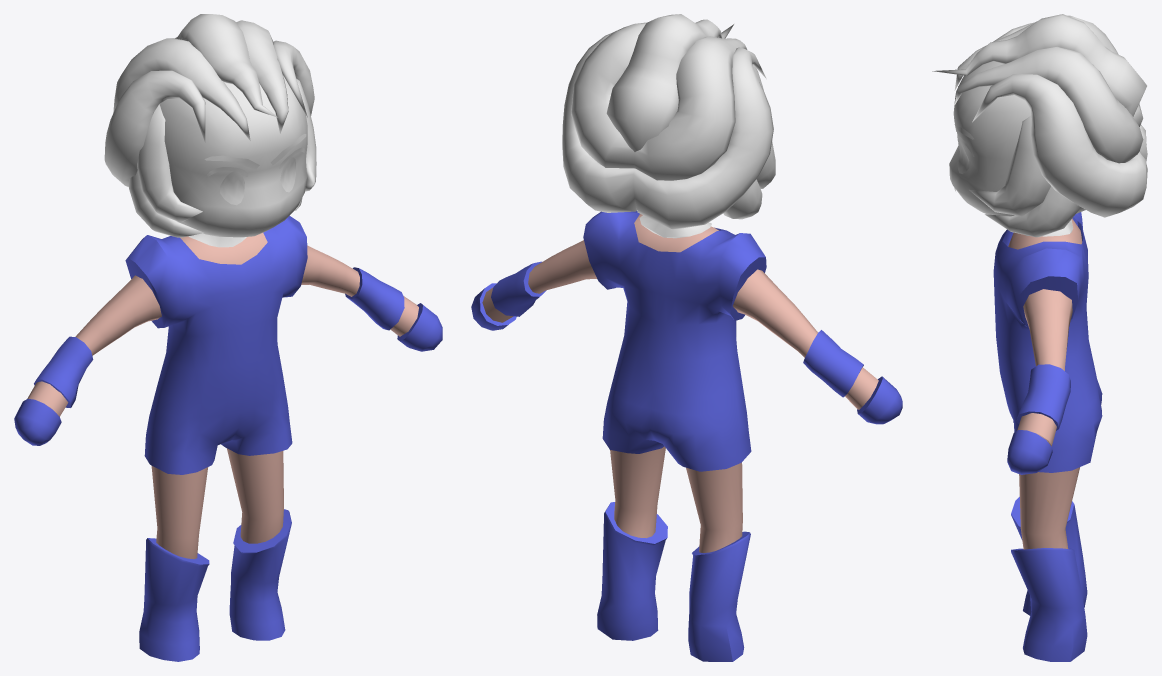
Rendered from Npc_01.fbx.
3 renders of one model, left to right at view 1: azimuth 30°, elevation 25°; view 2: azimuth 150°, elevation 25°; view 3: azimuth 270°, elevation 25°, orthographic.
Visible parts, largest first — view 1: Cube.023, Hair3, Head, Body; view 2: Cube.023, Hair3, Body, Head; view 3: Hair3, Cube.023, Body, Head.
Boxes of the visible parts, left/top/right/bottom form: Cube.023: left=14, top=215, right=442, bottom=661; Hair3: left=104, top=14, right=316, bottom=237; Head: left=159, top=75, right=307, bottom=247; Body: left=27, top=233, right=418, bottom=559; Cube.023: left=471, top=211, right=902, bottom=661; Hair3: left=562, top=14, right=775, bottom=229; Body: left=482, top=214, right=878, bottom=552; Head: left=639, top=64, right=763, bottom=238; Hair3: left=932, top=14, right=1147, bottom=237; Cube.023: left=993, top=212, right=1102, bottom=661; Body: left=1008, top=218, right=1082, bottom=549; Head: left=949, top=61, right=1085, bottom=236.
Size of the model in its own units: 277 by 390 by 125.
